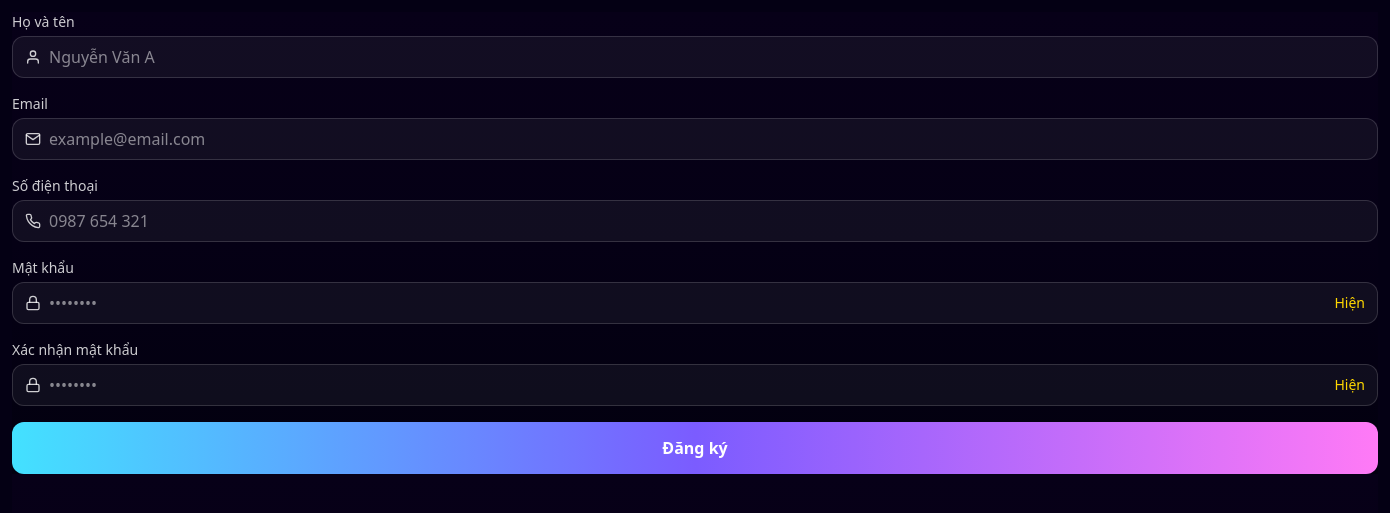
RegisterFields › validates invalid phone
The image size is (1390, 513).
Type "Nguyen Van A" into the field labelled "Họ và tên" at (707, 57), box [49,45,1365,69]
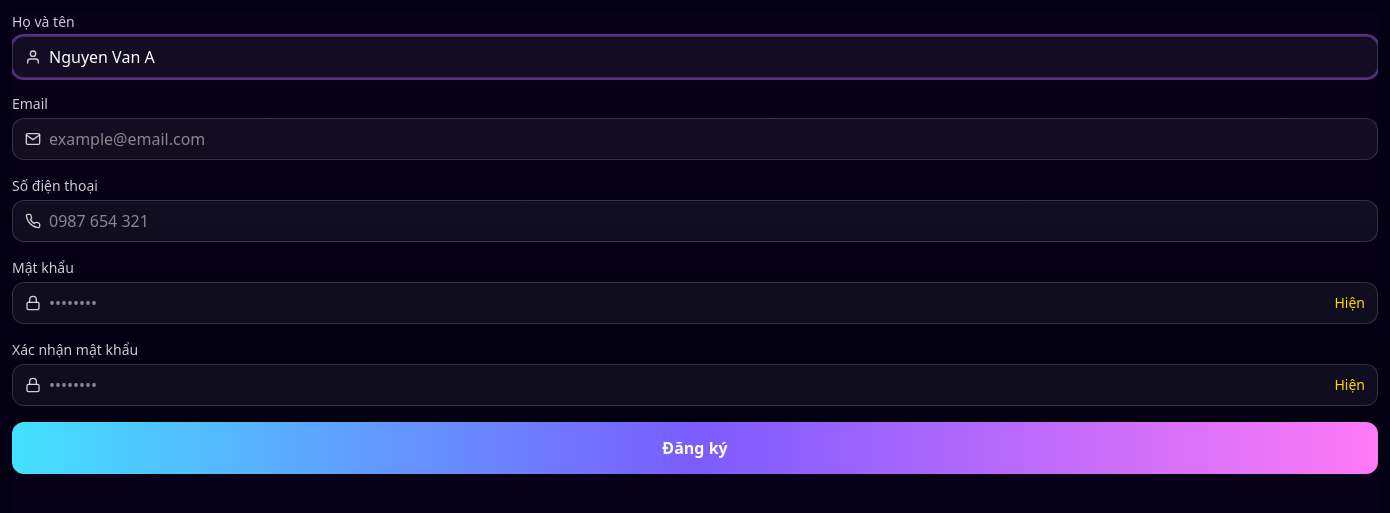
Type "a@cv.com" into the field labelled "Email" at (707, 139), box [49,127,1365,151]
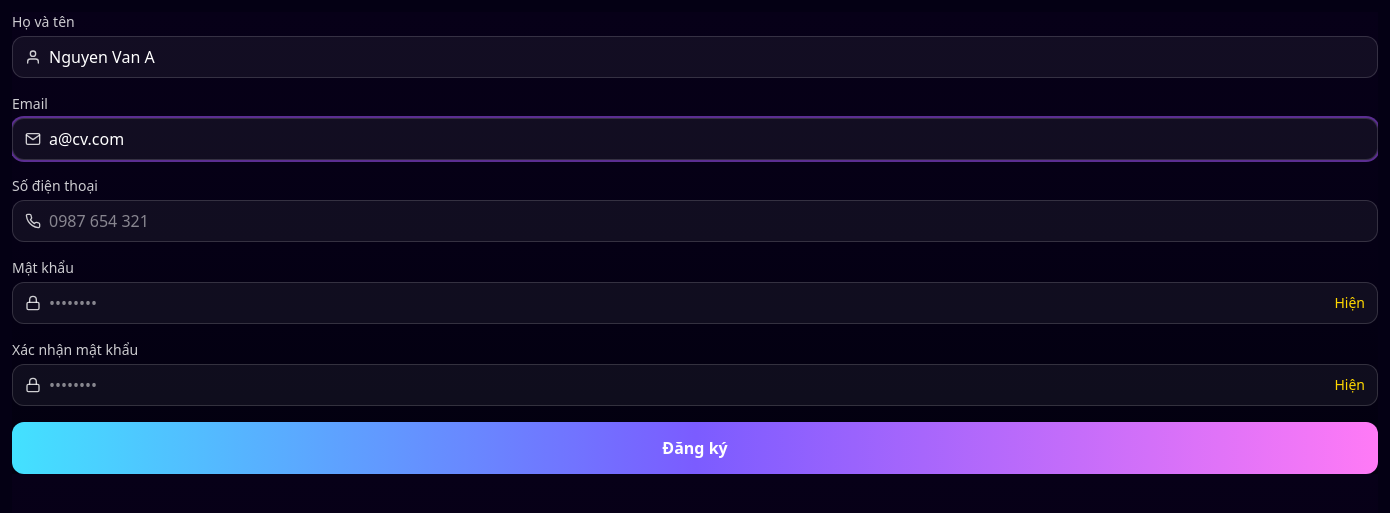
Type "09ab" into the field labelled "Số điện thoại" at (707, 221), box [49,209,1365,233]
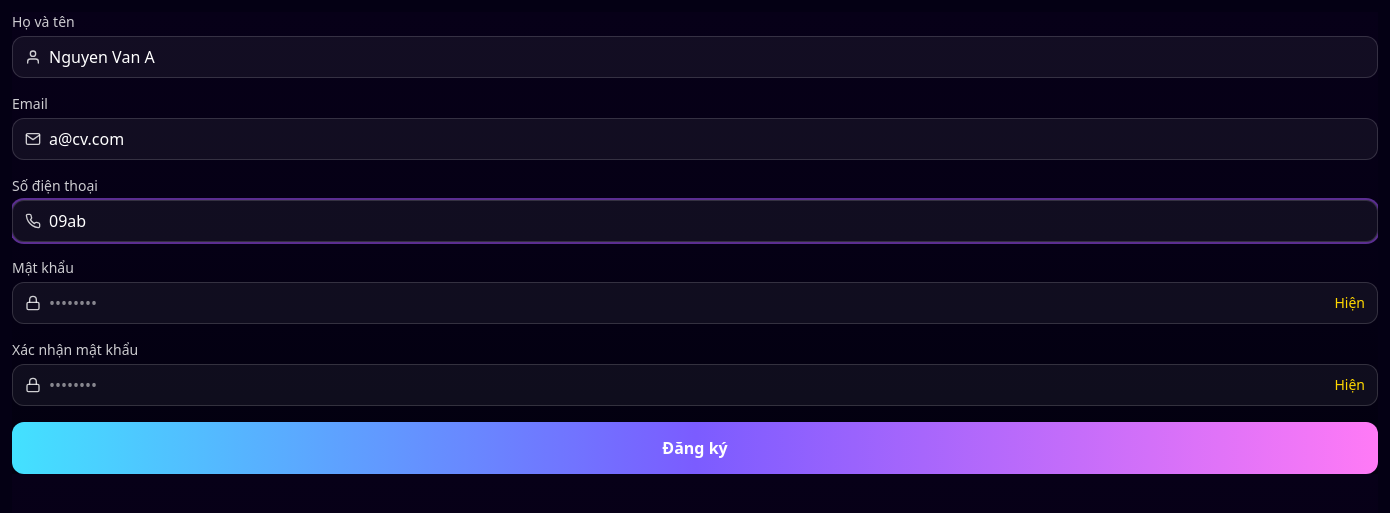
Type "123456" into the password field labelled "Mật khẩu" at (688, 303), box [49,291,1326,315]
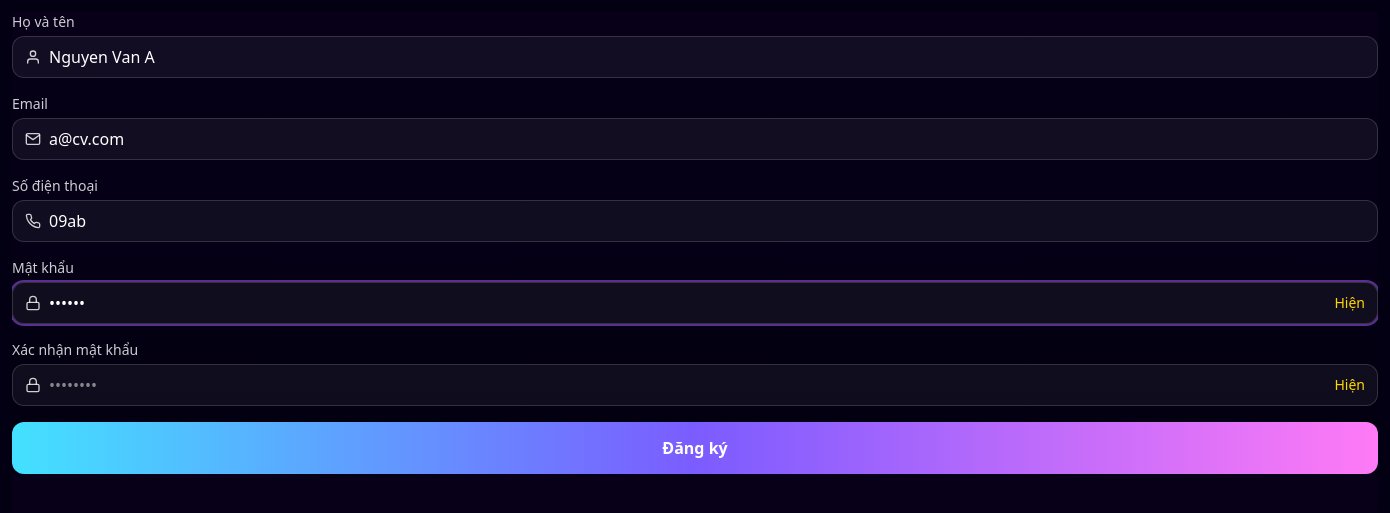
Type "123456" into the password field labelled "Xác nhận mật khẩu" at (688, 385), box [49,373,1326,397]
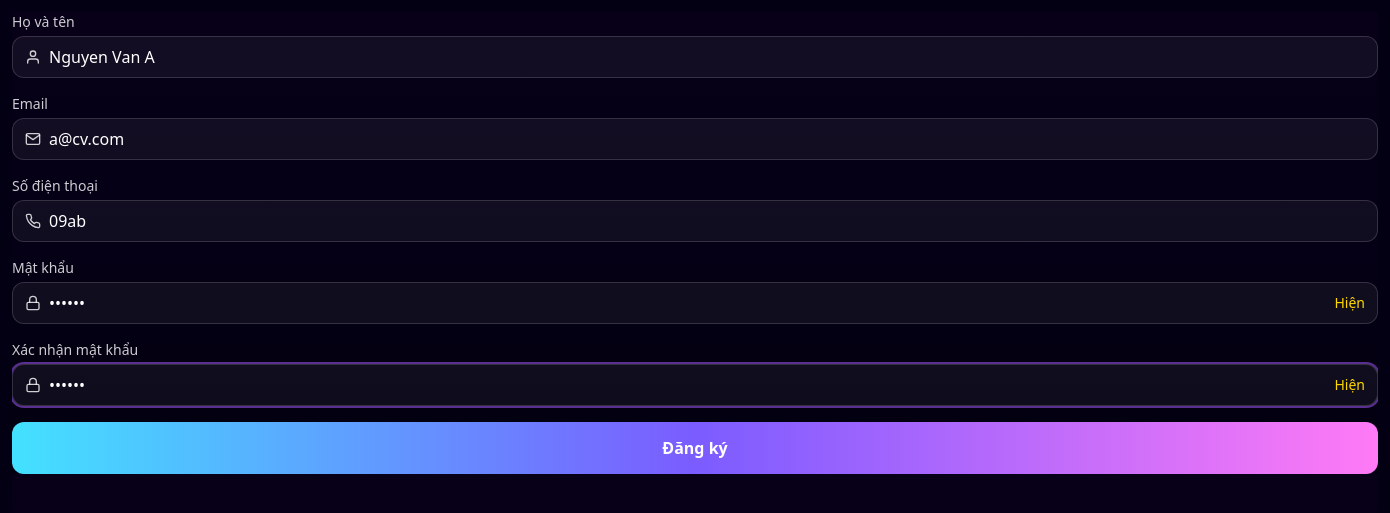
Click the button "Đăng ký" at (695, 448), box [12,422,1378,474]
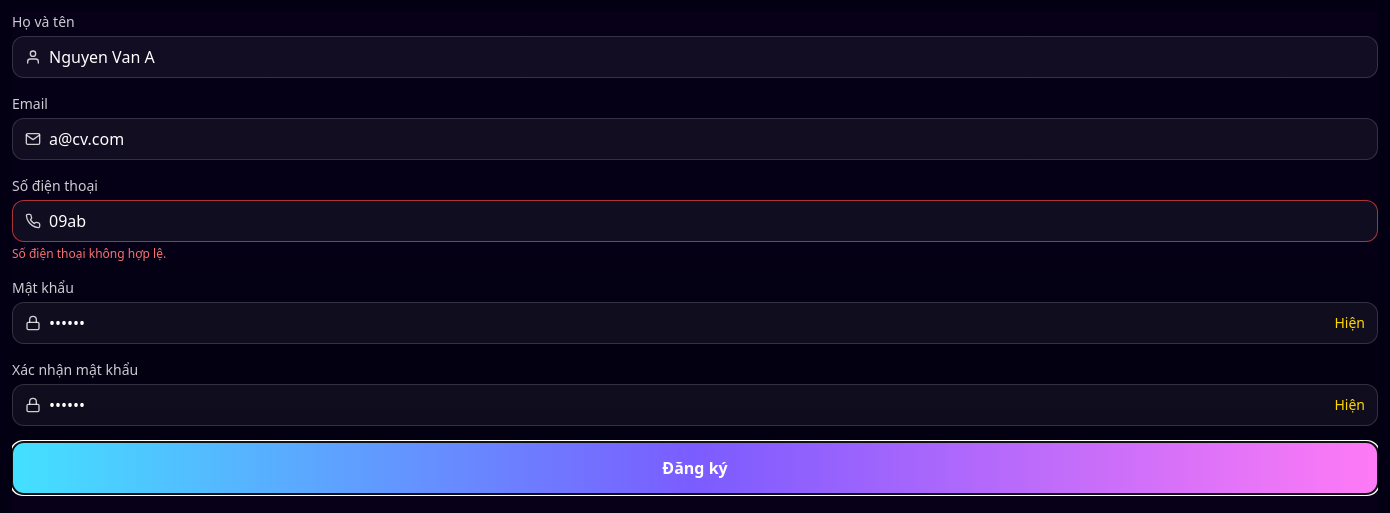
Expected: the text "Số điện thoại không hợp lệ." is shown, [12,245,166,262]
